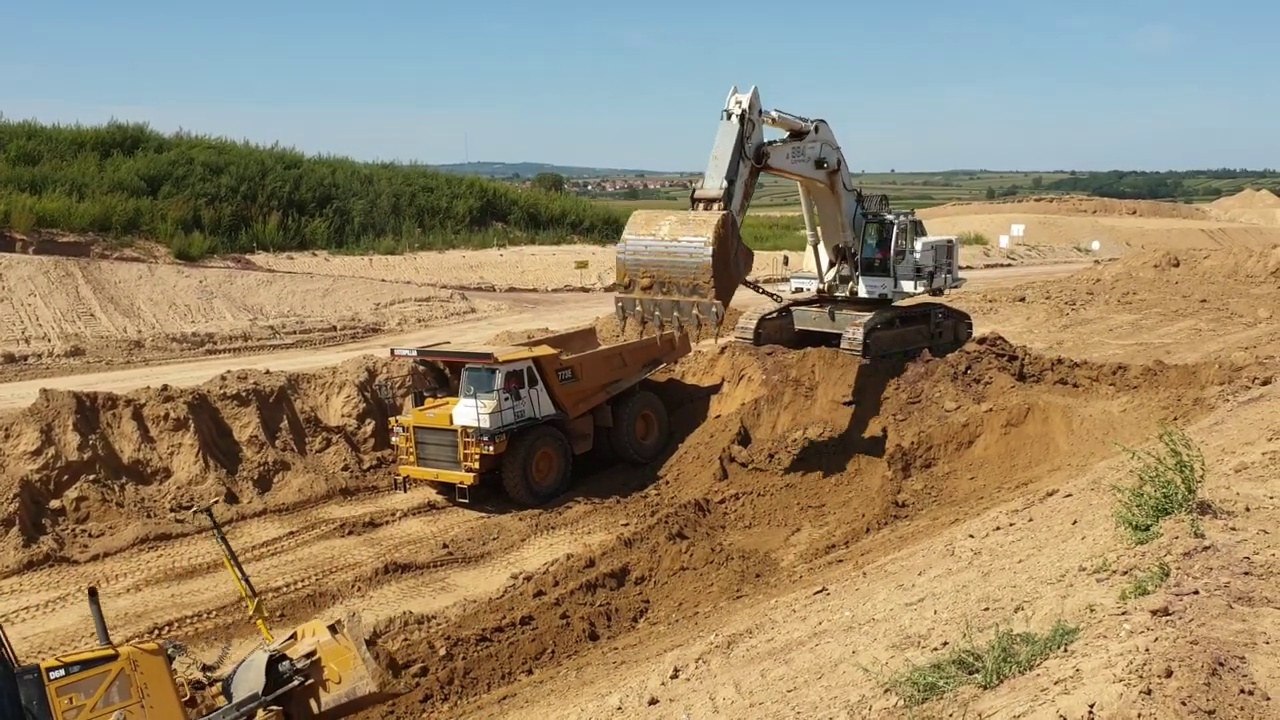bulldozer: (2, 499, 395, 720)
excavator: (611, 78, 978, 375)
truck: (381, 321, 699, 514)
